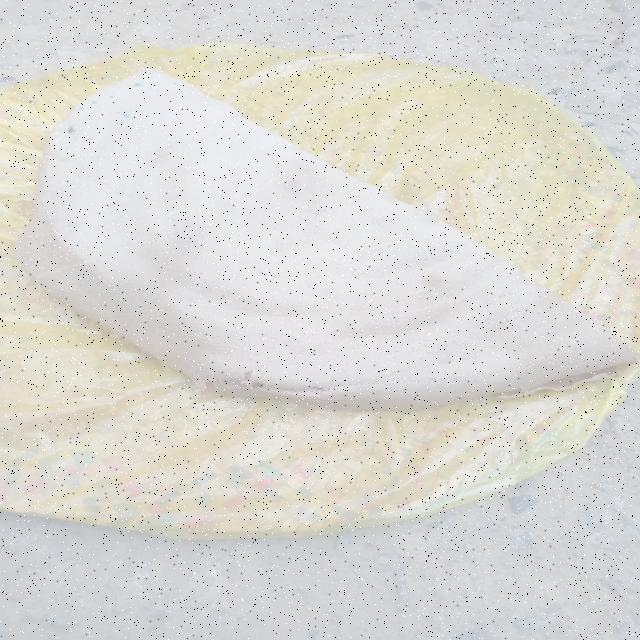injera_mold: (66, 124, 77, 133), (443, 379, 455, 387), (121, 112, 131, 119), (168, 212, 182, 217), (132, 83, 144, 87), (383, 395, 392, 400), (50, 132, 60, 136), (532, 331, 540, 336), (54, 230, 60, 236), (385, 244, 394, 248), (78, 107, 85, 112), (109, 95, 117, 99), (92, 100, 98, 104), (171, 82, 178, 85), (147, 77, 153, 80), (116, 111, 121, 114), (114, 83, 119, 86), (155, 88, 160, 91), (436, 376, 441, 379), (59, 123, 63, 126), (417, 400, 421, 403), (528, 339, 533, 341), (556, 336, 560, 338), (540, 336, 544, 338), (532, 326, 536, 328), (536, 323, 539, 325), (52, 228, 54, 230), (74, 227, 76, 229), (536, 342, 538, 344), (433, 386, 436, 387), (54, 228, 56, 229), (66, 228, 68, 228), (61, 238, 63, 238)
